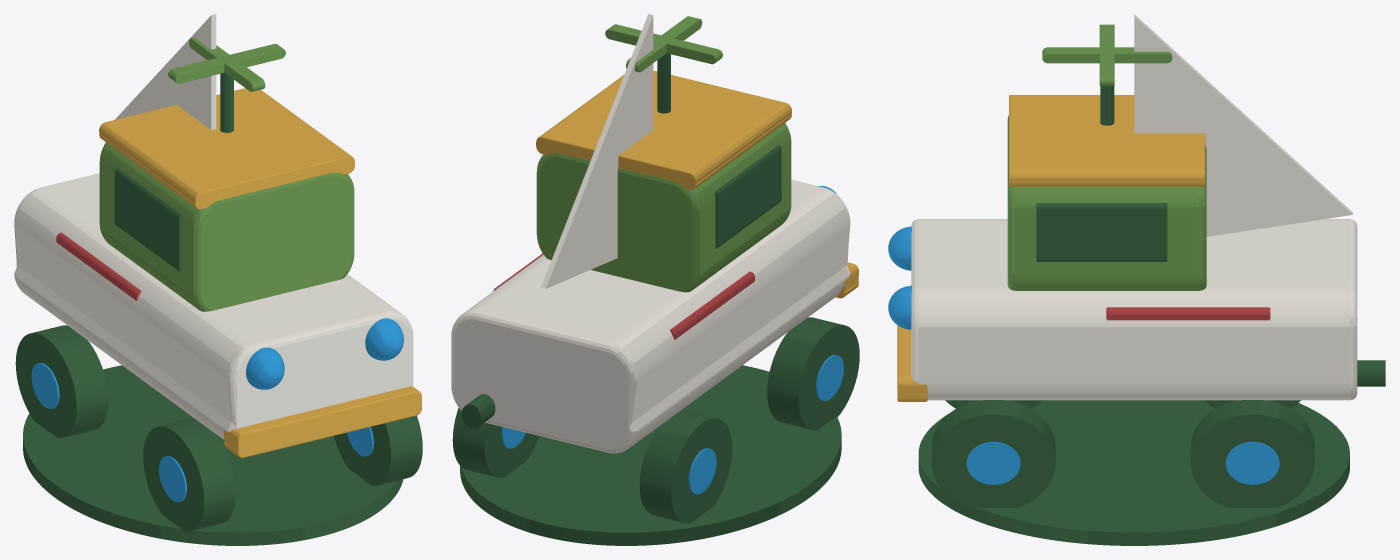
File: 0386_欧洲文明图鉴_中世纪大学生.glb
3 views of the same model, side by side, from view 1: azimuth 30°, elevation 25°; view 2: azimuth 150°, elevation 25°; view 3: azimuth 270°, elevation 25° (orthographic).
Visible parts, largest first — view 1: card_0386; view 2: card_0386; view 3: card_0386.
Boxes of the visible parts, x1,y1,x2,y2 form: card_0386: (14,14,422,545); card_0386: (451,14,859,545); card_0386: (888,14,1385,545).
Bounding box in the file's own units: 0.7464 × 1 × 0.9976.
